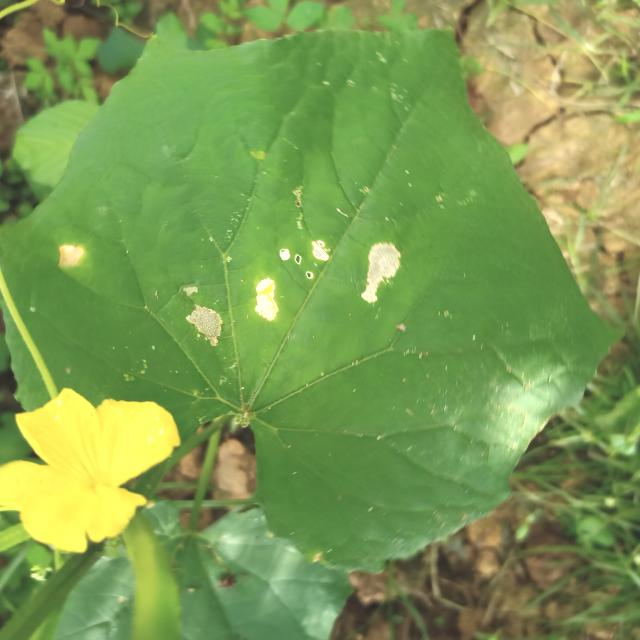disease_cucumber: (183, 236, 405, 346), (56, 242, 89, 270)
